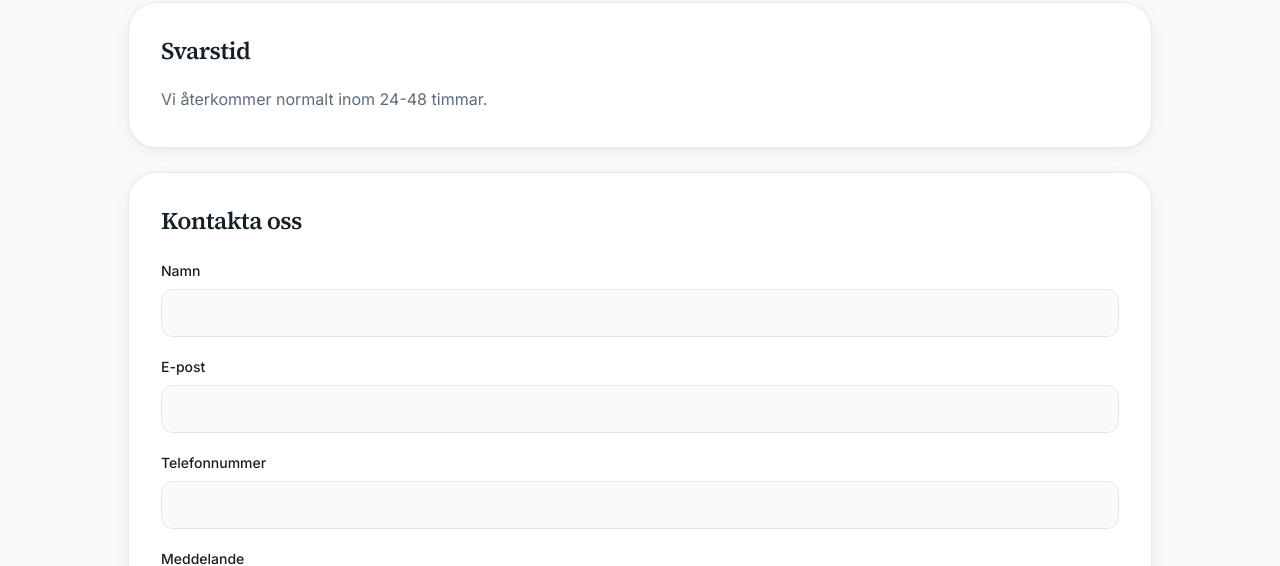
ContactPage › submits the contact form with attribution and funnel tracking
(page scrolled)
In the field labelled "Namn": (640, 313) [161,289,1119,337], type "Anna Holm"
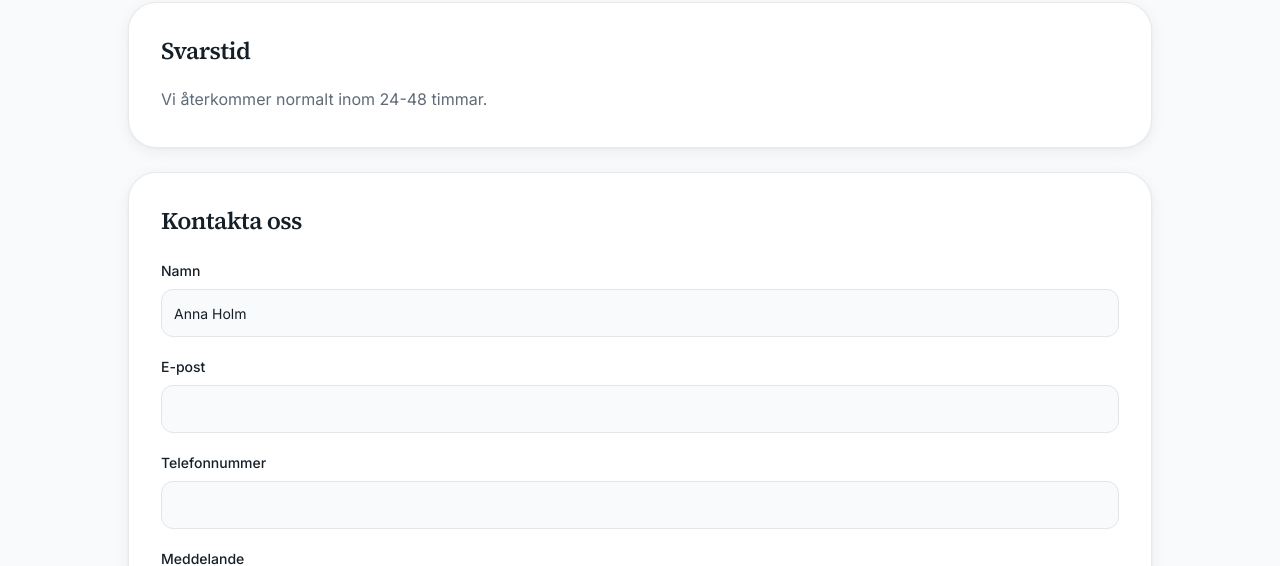
In the field labelled "E-post": (640, 409) [161,385,1119,433], type "anna@example.com"
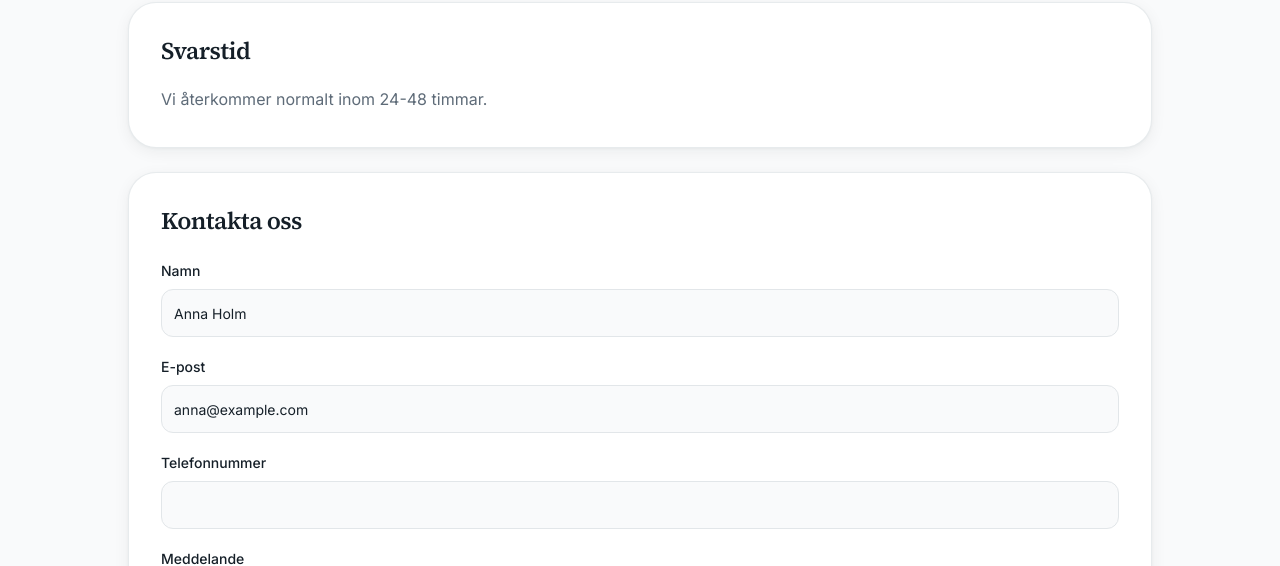
In the field labelled "Telefonnummer": (640, 505) [161,481,1119,529], type "0701234567"
(page scrolled)
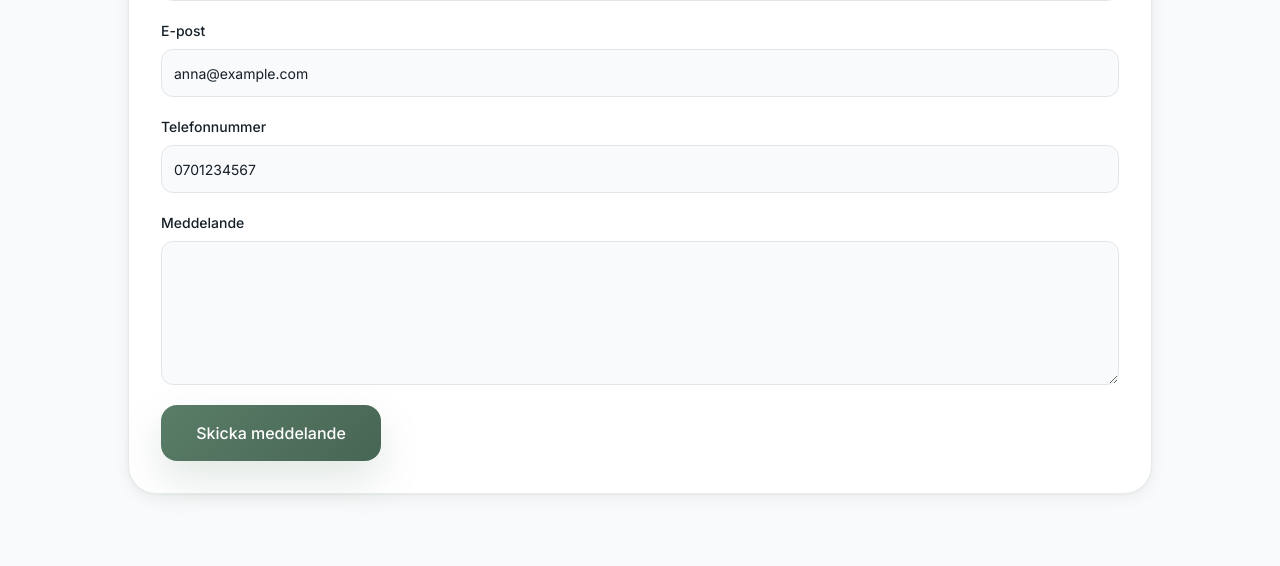
In the text box labelled "Meddelande": (640, 313) [161,241,1119,385], type "Jag vill veta mer."
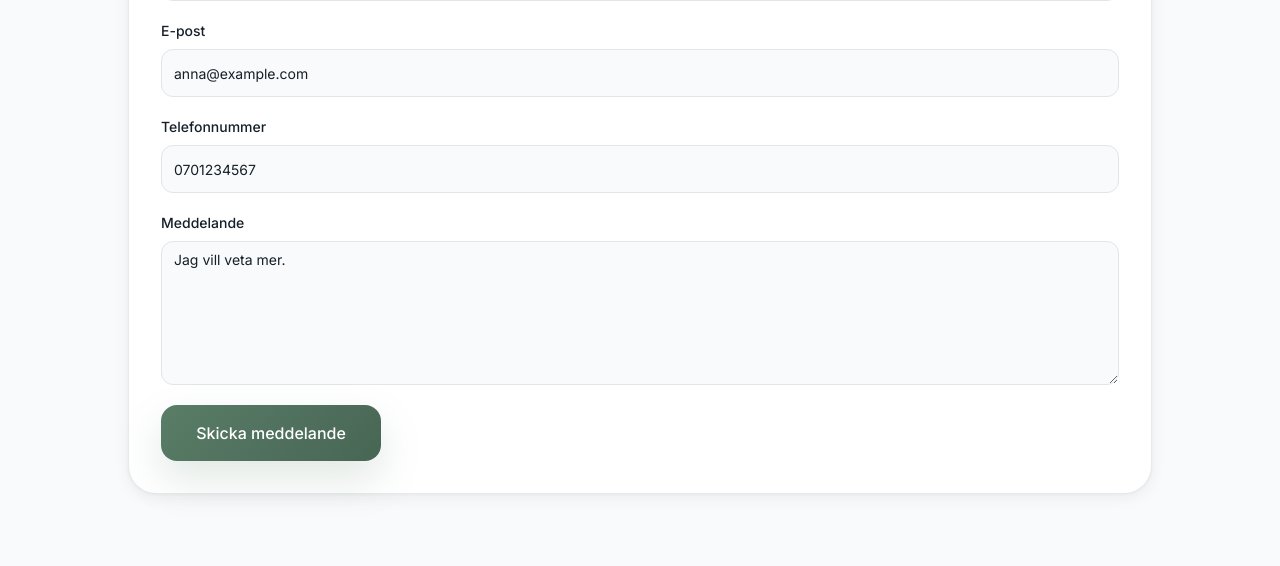
Click the button "Skicka meddelande": (271, 433) [161,405,381,461]
(page scrolled)
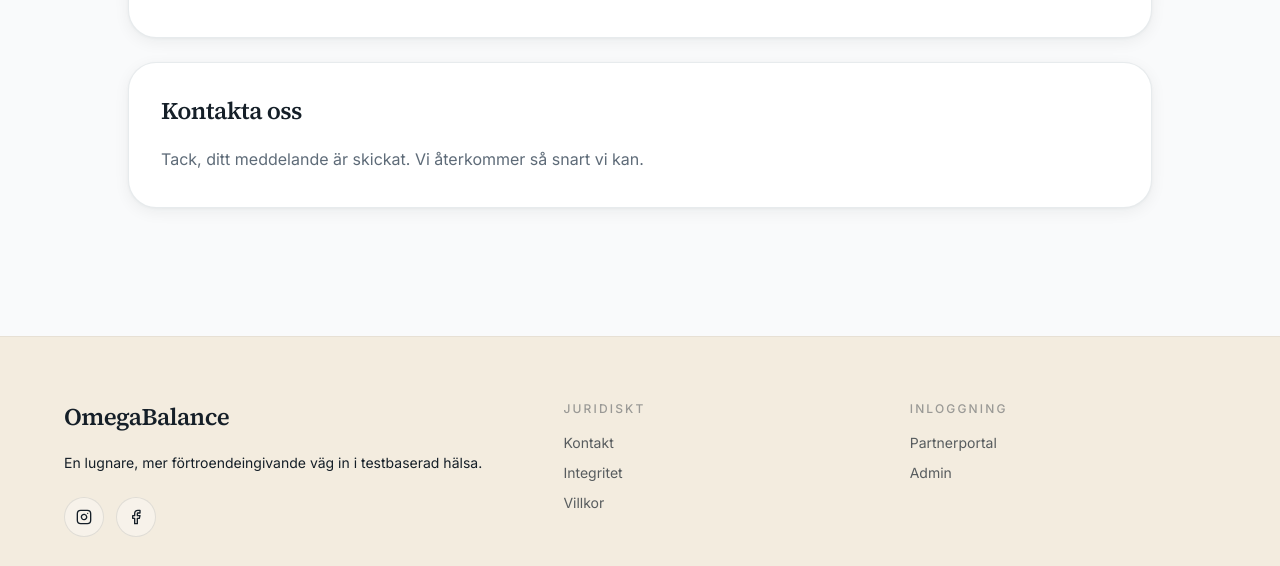
Result: the text "Tack, ditt meddelande är skickat. Vi återkommer så snart vi kan." is shown at [161,149,644,169]
